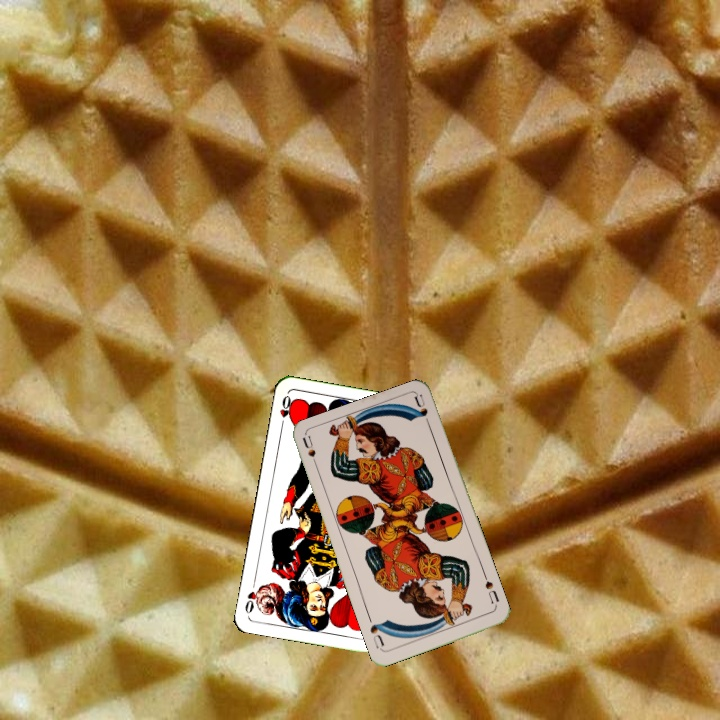HO: (276, 391, 296, 431)
SU: (299, 433, 322, 473), (480, 570, 502, 606)
